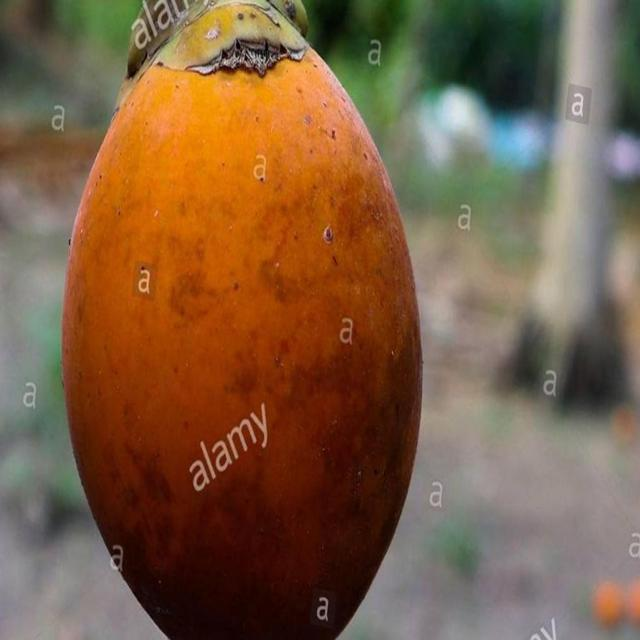good: (61, 0, 423, 639)
